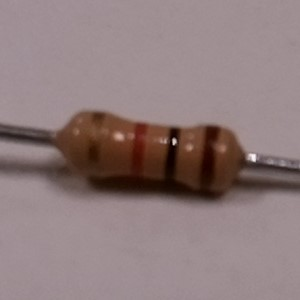black_band: (160, 125, 184, 190)
brown_band: (197, 120, 222, 199)
gold_band: (85, 108, 109, 183)
red_band: (126, 120, 153, 187)
